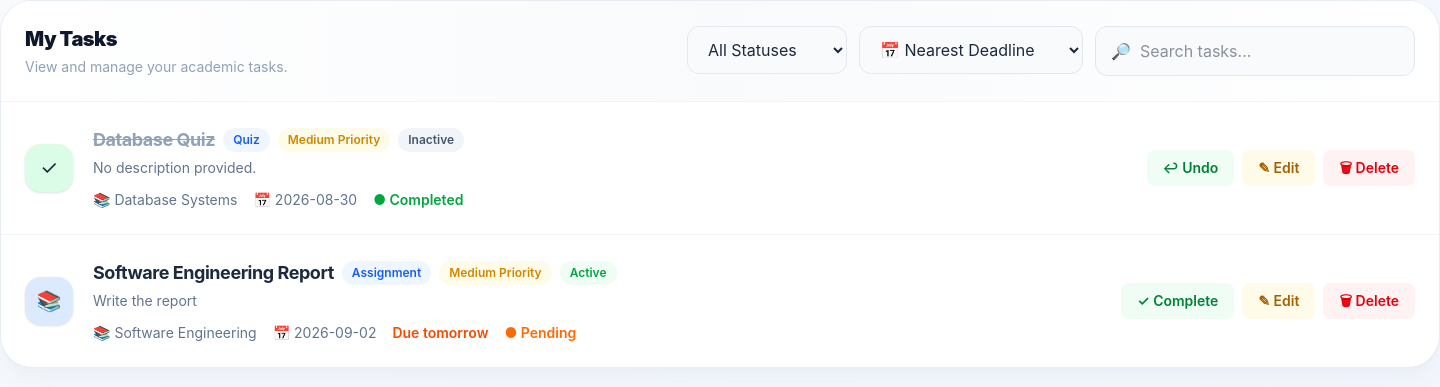
Test: Taskly form and task list components › shows the no-matching-tasks state for a search with no matches
Type "no-such-task" into the field named "Search tasks" at (1255, 51), box [1095,26,1415,76]
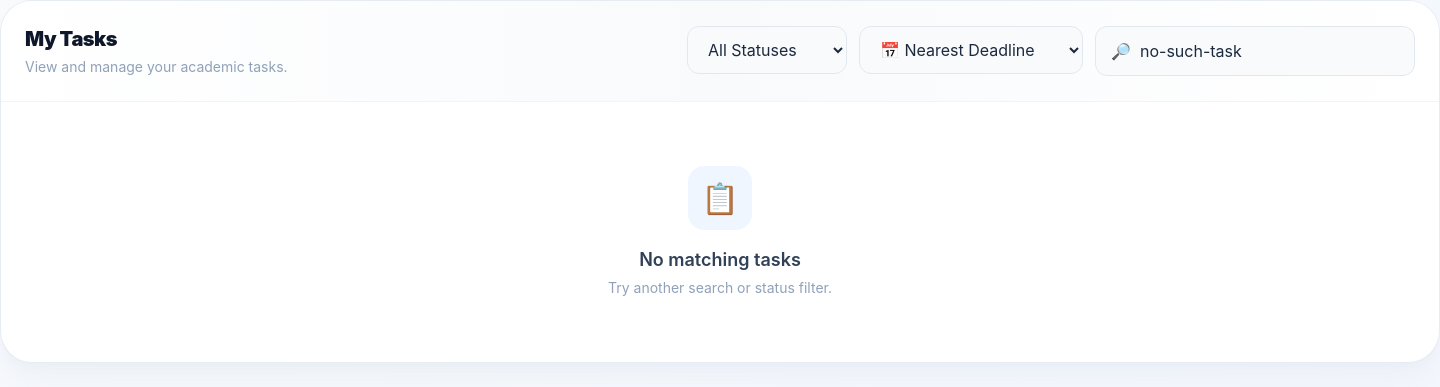
Expected: the text "No matching tasks" is shown, [639,249,801,270]
